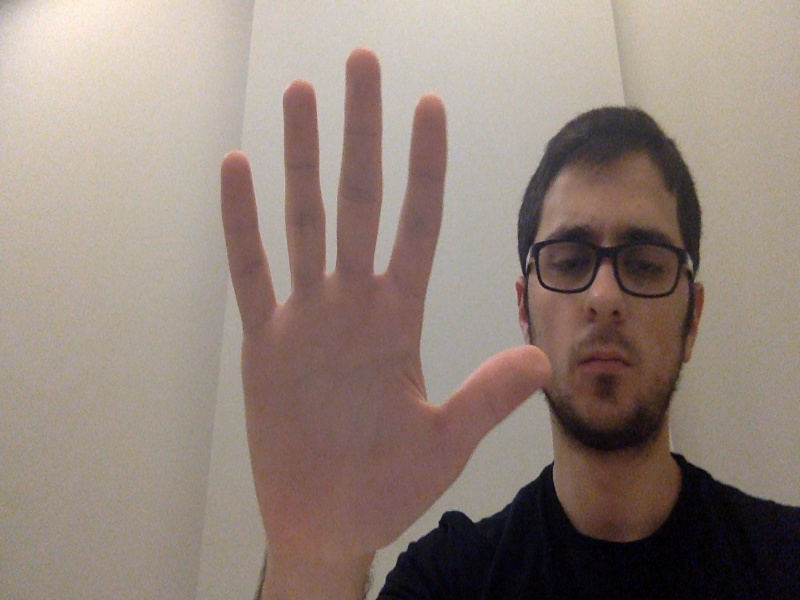5-hand: (218, 47, 557, 588)
